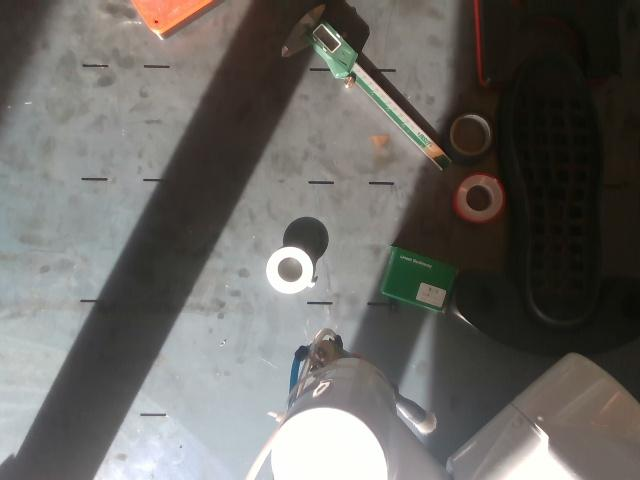shoes: (511, 50, 602, 322)
